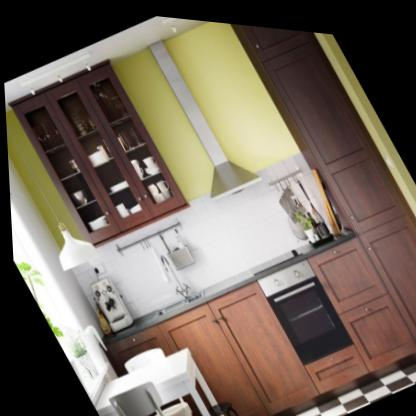Chair: (100, 364, 208, 416)
